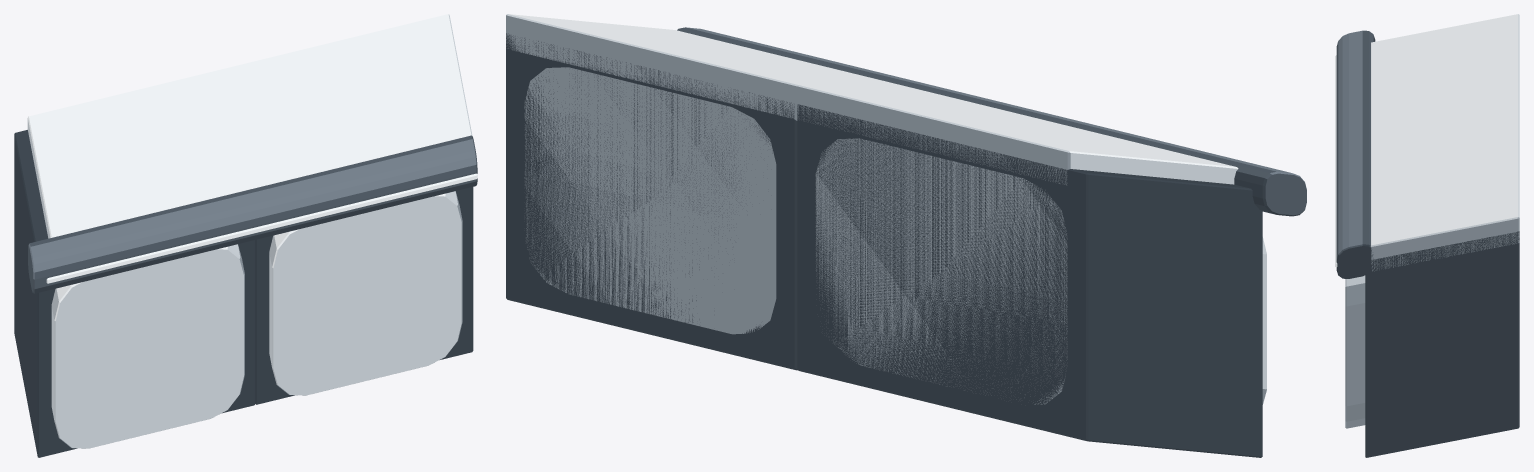
Rendered from Terrain_TopRun2L.gltf.
3 renders of one model, left to right at view 1: azimuth 30°, elevation 25°; view 2: azimuth 150°, elevation 25°; view 3: azimuth 270°, elevation 25°, orthographic. The views are drawn at different scales.
Parts seen in each view (by area): view 1: Terrain_TopRun2L_baked; view 2: Terrain_TopRun2L_baked; view 3: Terrain_TopRun2L_baked.
Boxes of the visible parts, left/top/right/bottom form: Terrain_TopRun2L_baked: left=14, top=14, right=477, bottom=457; Terrain_TopRun2L_baked: left=506, top=14, right=1306, bottom=457; Terrain_TopRun2L_baked: left=1335, top=14, right=1519, bottom=457.
Bounding box in the file's own units: 2.33 × 1.18 × 0.74.
